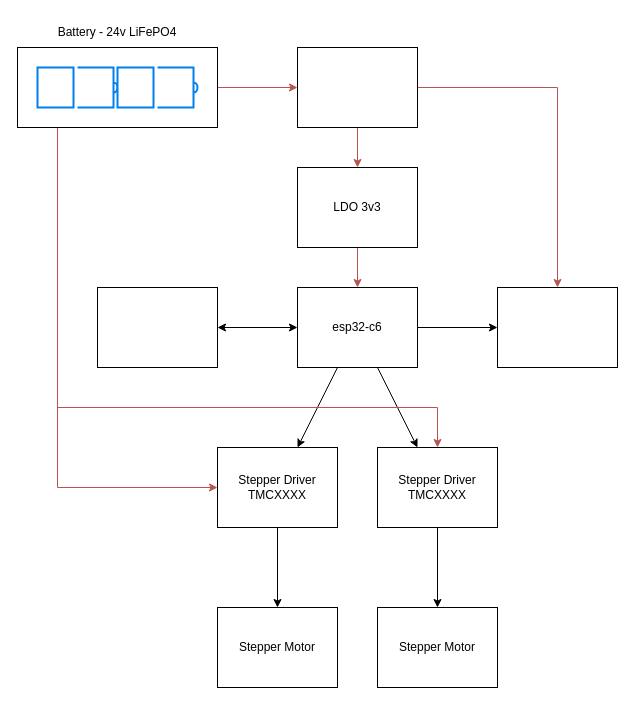
Image size: 635x705. Some labels were removed from this diagram. Here are the shapes that lost their labels. From the top down, the centre of each, then its label:
the point at 357,87: Buck converter control voltage 5v or 12v
the point at 157,327: IrDA transceiver
the point at 557,327: Lighting AUX
